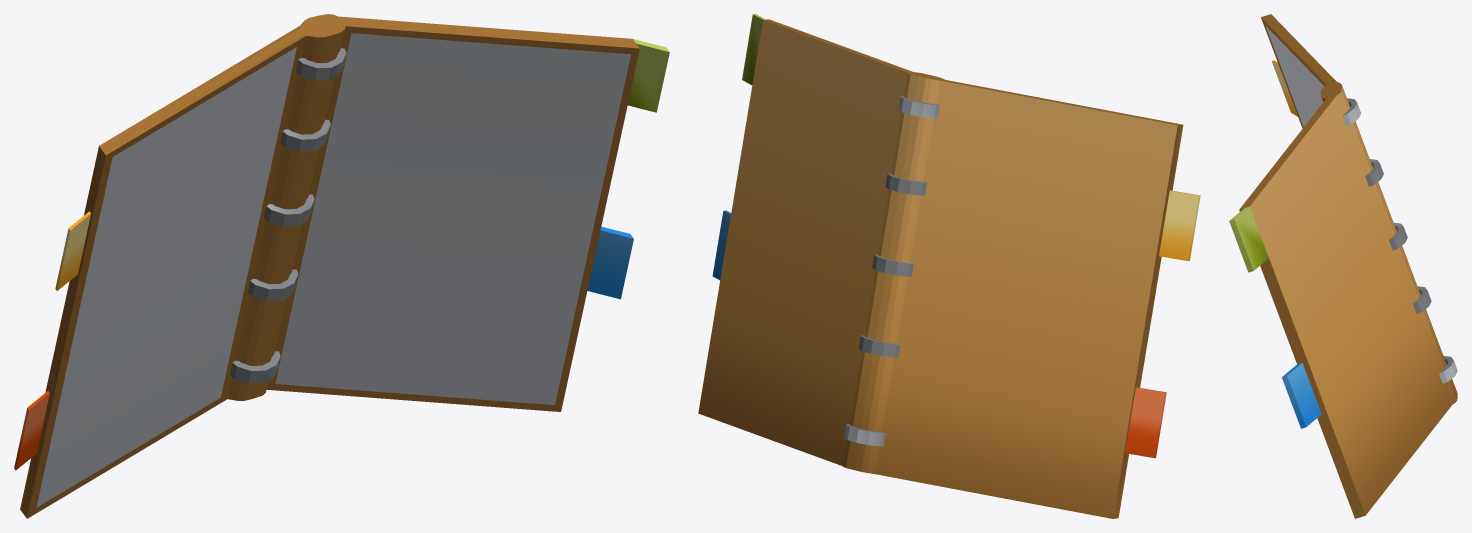
File: HCCookbookOpen.fbx
3 renders of one model, left to right at view 1: azimuth 30°, elevation 25°; view 2: azimuth 150°, elevation 25°; view 3: azimuth 270°, elevation 25°, orthographic. The views are drawn at different scales.
Visible parts, largest first — view 1: Cylinder.012; view 2: Cylinder.012; view 3: Cylinder.012.
Part boxes in pixels (<box>): Cylinder.012: <box>14,14,669,518</box>; Cylinder.012: <box>698,14,1200,518</box>; Cylinder.012: <box>1229,14,1457,518</box>.
Size of the model in its own units: 0.2625 by 0.2041 by 0.1242.
